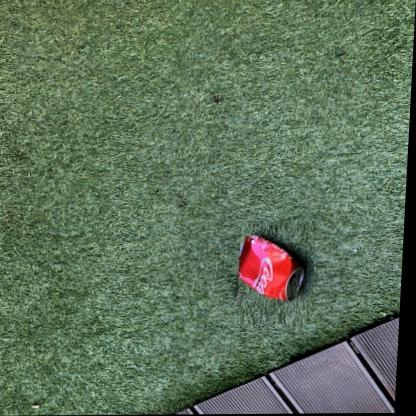trash: (239, 235, 303, 300)
